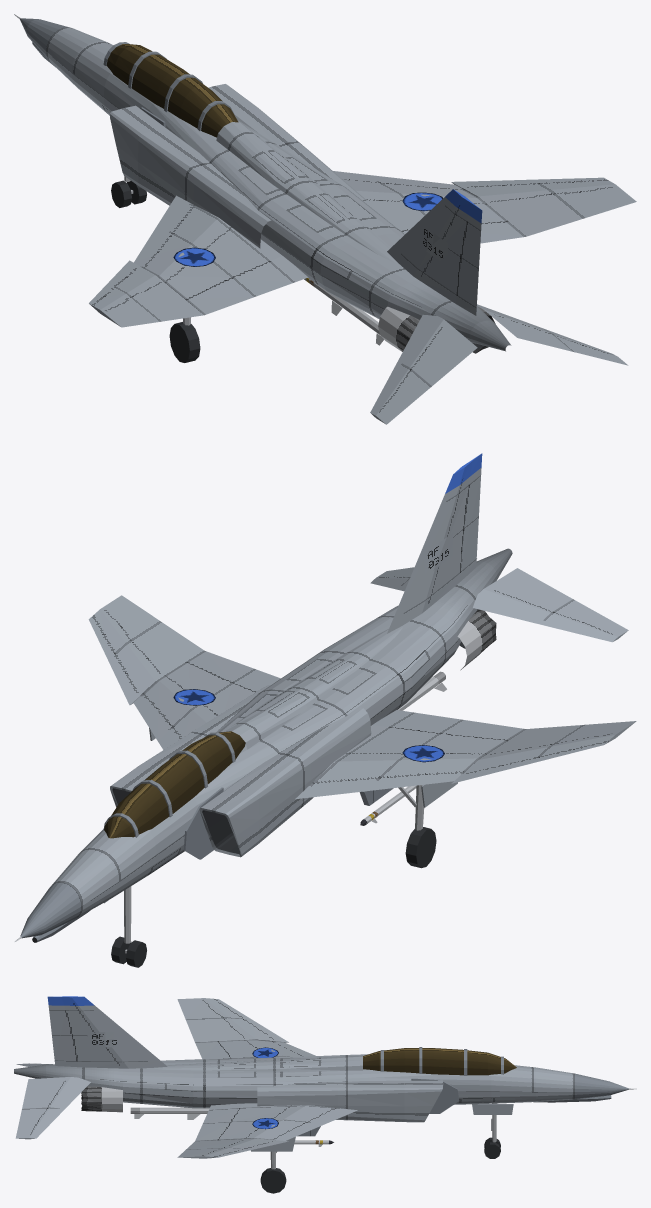
3 renders of one model, top to bottom at view 1: azimuth 30°, elevation 25°; view 2: azimuth 150°, elevation 25°; view 3: azimuth 270°, elevation 25°, orthographic. The views are drawn at different scales.
Visible parts, largest first — view 1: airframe, canopy, stab_l, stab_r, rudder, aileron_l, flap_l, gear_main_l, msl_4, gear_nose, aileron_r; view 2: airframe, canopy, stab_l, gear_main_l, gear_nose, rudder, aileron_r, aileron_l, flap_l; view 3: airframe, canopy, stab_r, rudder, gear_main_r, msl_5, aileron_l, aileron_r, door_nose, gear_nose, flap_r, door_main_r.
Part boxes in pixels (x1,y1,x2,y2): airframe: (14,14,636,353); canopy: (103,42,238,137); stab_l: (370,314,477,424); stab_r: (477,304,628,365); rudder: (456,221,480,307); aileron_l: (188,277,255,314); flap_l: (233,261,294,296); gear_main_l: (169,317,200,362); msl_4: (304,278,383,345); gear_nose: (111,176,146,207); aileron_r: (480,221,523,243); airframe: (14,453,636,942); canopy: (103,731,245,838); stab_l: (473,568,628,642); gear_main_l: (398,785,436,868); gear_nose: (111,886,146,967); rudder: (460,475,480,571); aileron_r: (188,651,255,682); aileron_l: (440,719,523,740); flap_l: (389,712,461,733); airframe: (14,996,636,1158); canopy: (363,1047,516,1075); stab_r: (15,1077,90,1139); rudder: (49,1009,77,1060); gear_main_r: (260,1151,286,1193); msl_5: (130,1107,209,1119); aileron_l: (195,1042,230,1059); aileron_r: (195,1122,230,1140); door_nose: (472,1104,513,1114); gear_nose: (484,1103,500,1158); flap_r: (203,1108,239,1123); door_main_r: (251,1136,295,1151).
Bounding box in the file's own units: 11.7 × 5.48 × 19.45.
6 materials, 6 textured.
